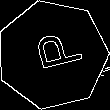P_W: (23, 31, 82, 79)
